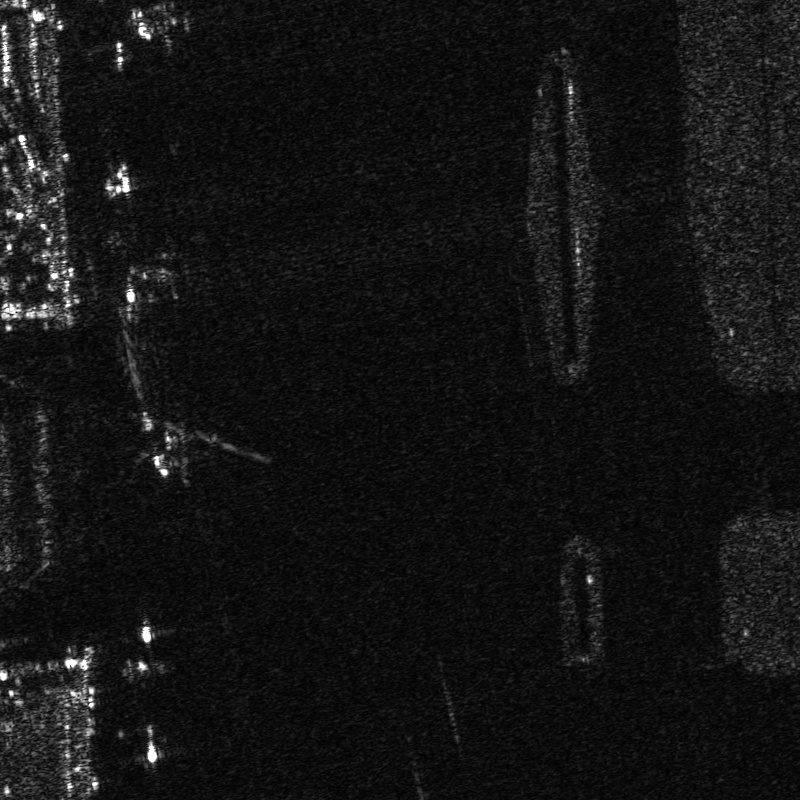A220: (134, 397, 218, 494)
